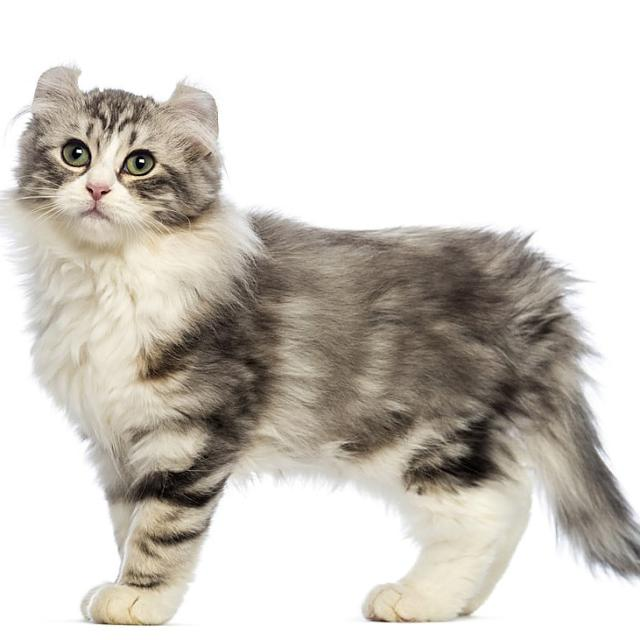American Curl: (0, 60, 640, 630)
